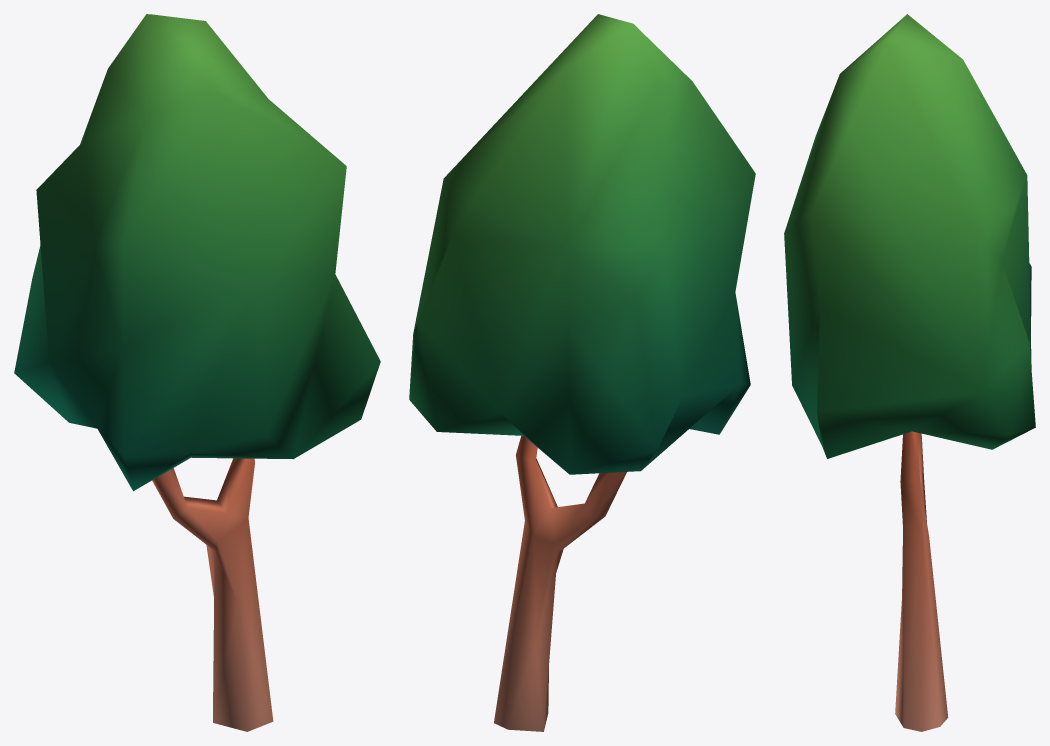
File: SmallTree.fbx
The picture shows the model from 3 angles, left to right: view 1: azimuth 30°, elevation 25°; view 2: azimuth 150°, elevation 25°; view 3: azimuth 270°, elevation 25°; orthographic projection. The views are drawn at different scales.
Visible parts, largest first — view 1: SmallTree; view 2: SmallTree; view 3: SmallTree.
Part boxes in pixels (bbox=[...]): SmallTree: bbox=[14, 14, 380, 731]; SmallTree: bbox=[409, 14, 755, 731]; SmallTree: bbox=[784, 14, 1035, 731].
Bounding box in the file's own units: 0.501 × 1.34 × 0.4629.
